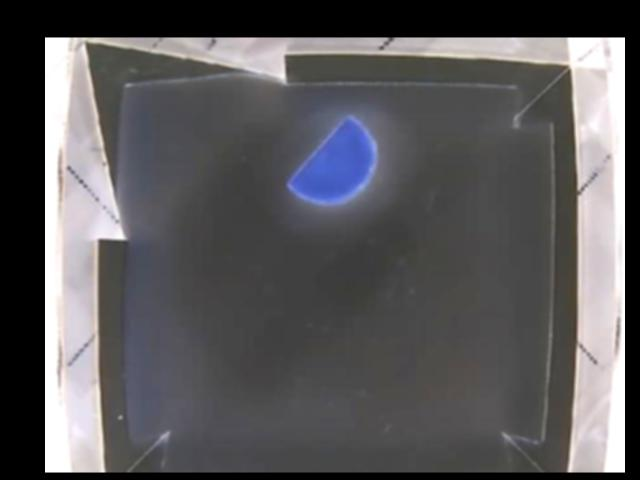Potato: (284, 117, 379, 202)
